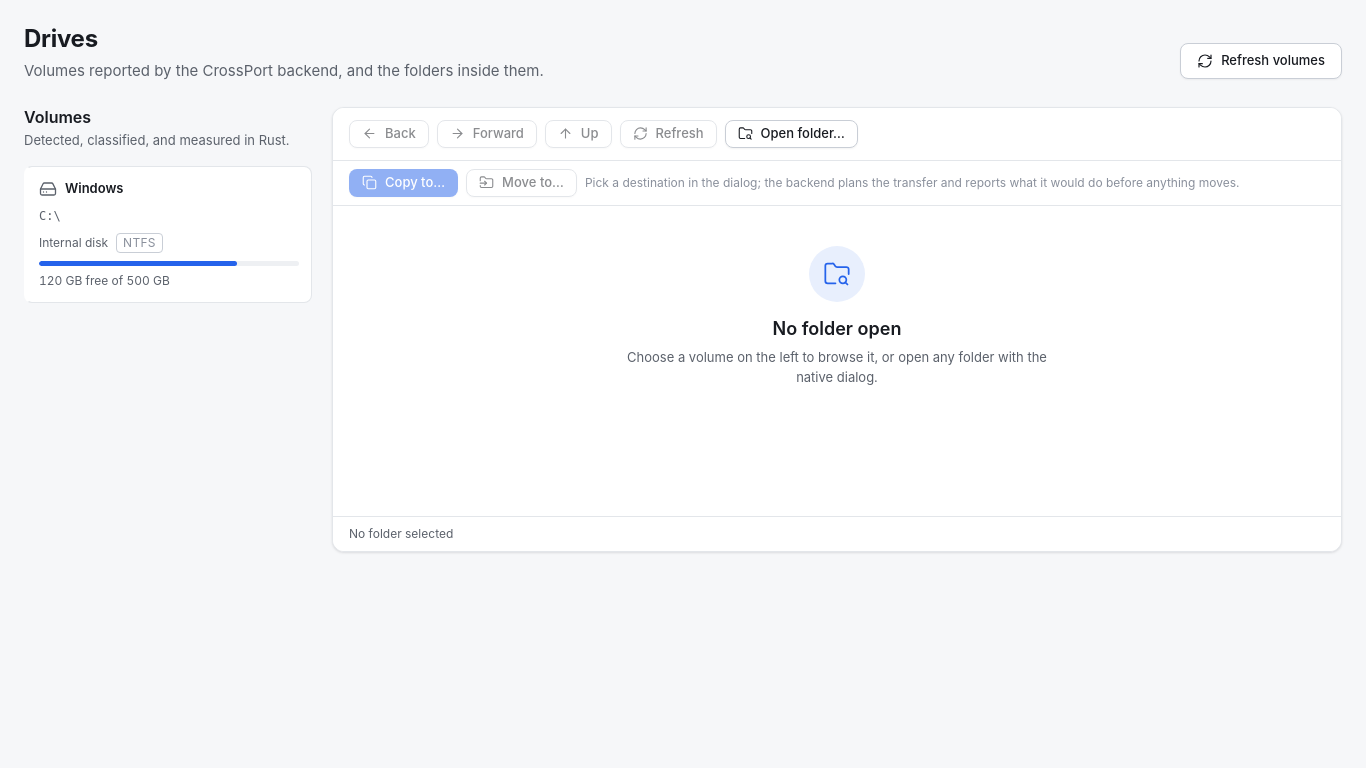
it: DrivesPage › opens a folder chosen in the native dialog
Click the button "Open folder…". click: (791,134)
box: [725, 120, 858, 148]
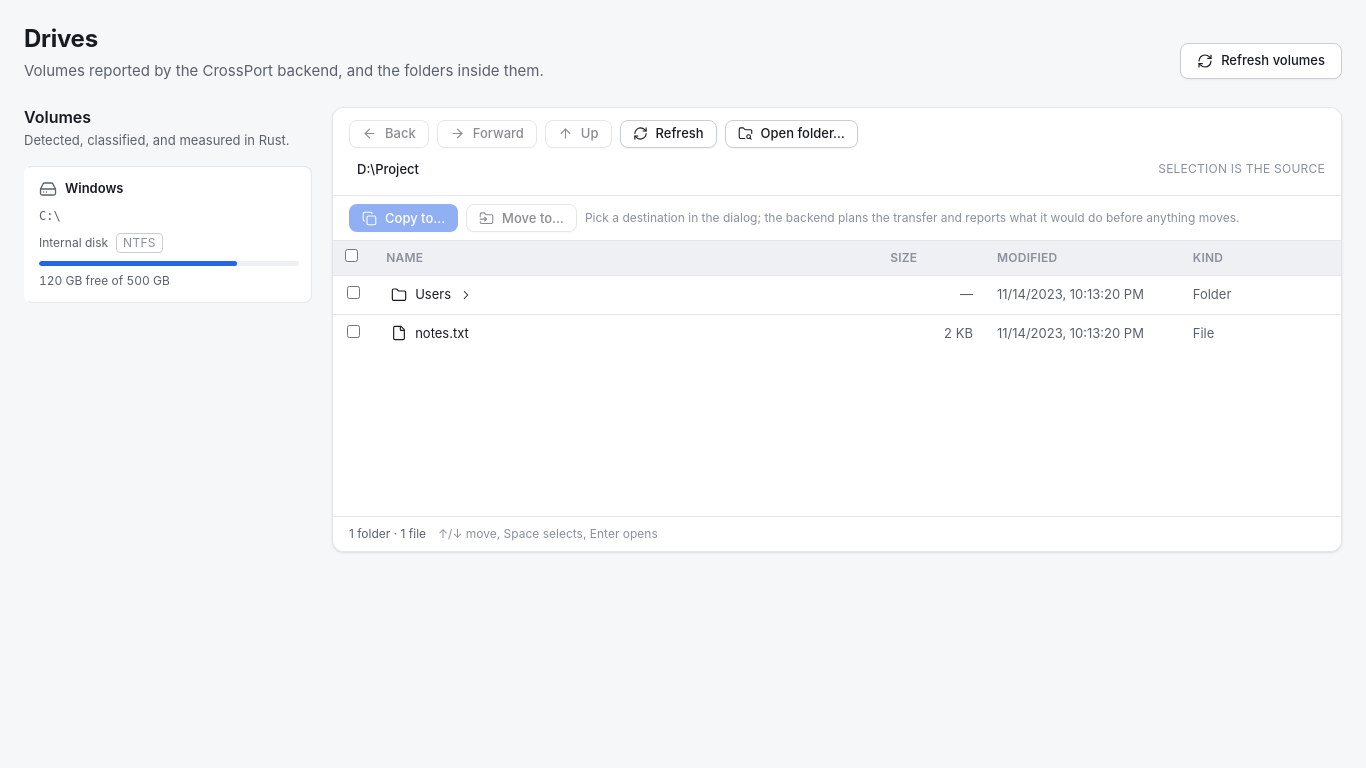
Expected: the button "D:\\Project" is shown, [349, 156, 427, 183]
